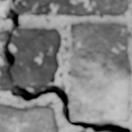brick: (70, 24, 130, 120), (0, 105, 57, 131)
broken_brick: (11, 27, 61, 86), (15, 0, 128, 17), (0, 53, 11, 92), (0, 0, 8, 20), (0, 29, 9, 46)
crack: (0, 0, 131, 131)
